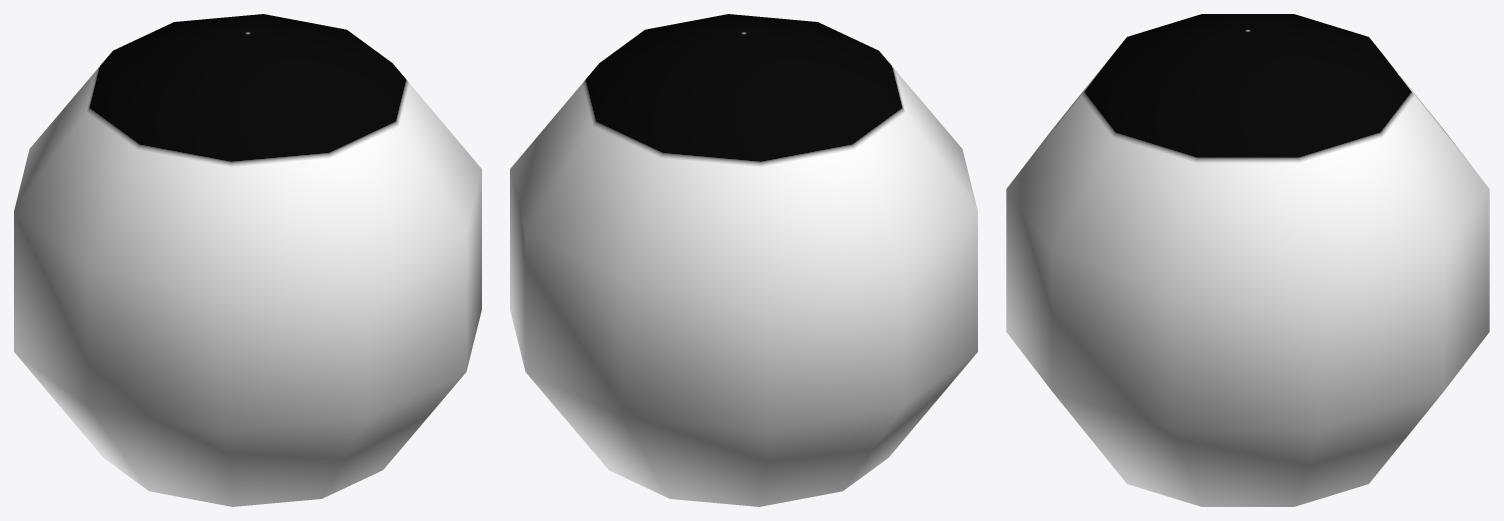
File: fog.FBX
3 renders of one model, left to right at view 1: azimuth 30°, elevation 25°; view 2: azimuth 150°, elevation 25°; view 3: azimuth 270°, elevation 25°, orthographic.
Visible parts, largest first — view 1: Sphere021; view 2: Sphere021; view 3: Sphere021.
Boxes of the visible parts, x1=… form: Sphere021: x1=14, y1=14, x2=481, y2=506; Sphere021: x1=510, y1=14, x2=977, y2=506; Sphere021: x1=1006, y1=14, x2=1489, y2=506.
Size of the model in its own units: 133 by 147 by 140.
Materials: 1 (1 with a texture image).
